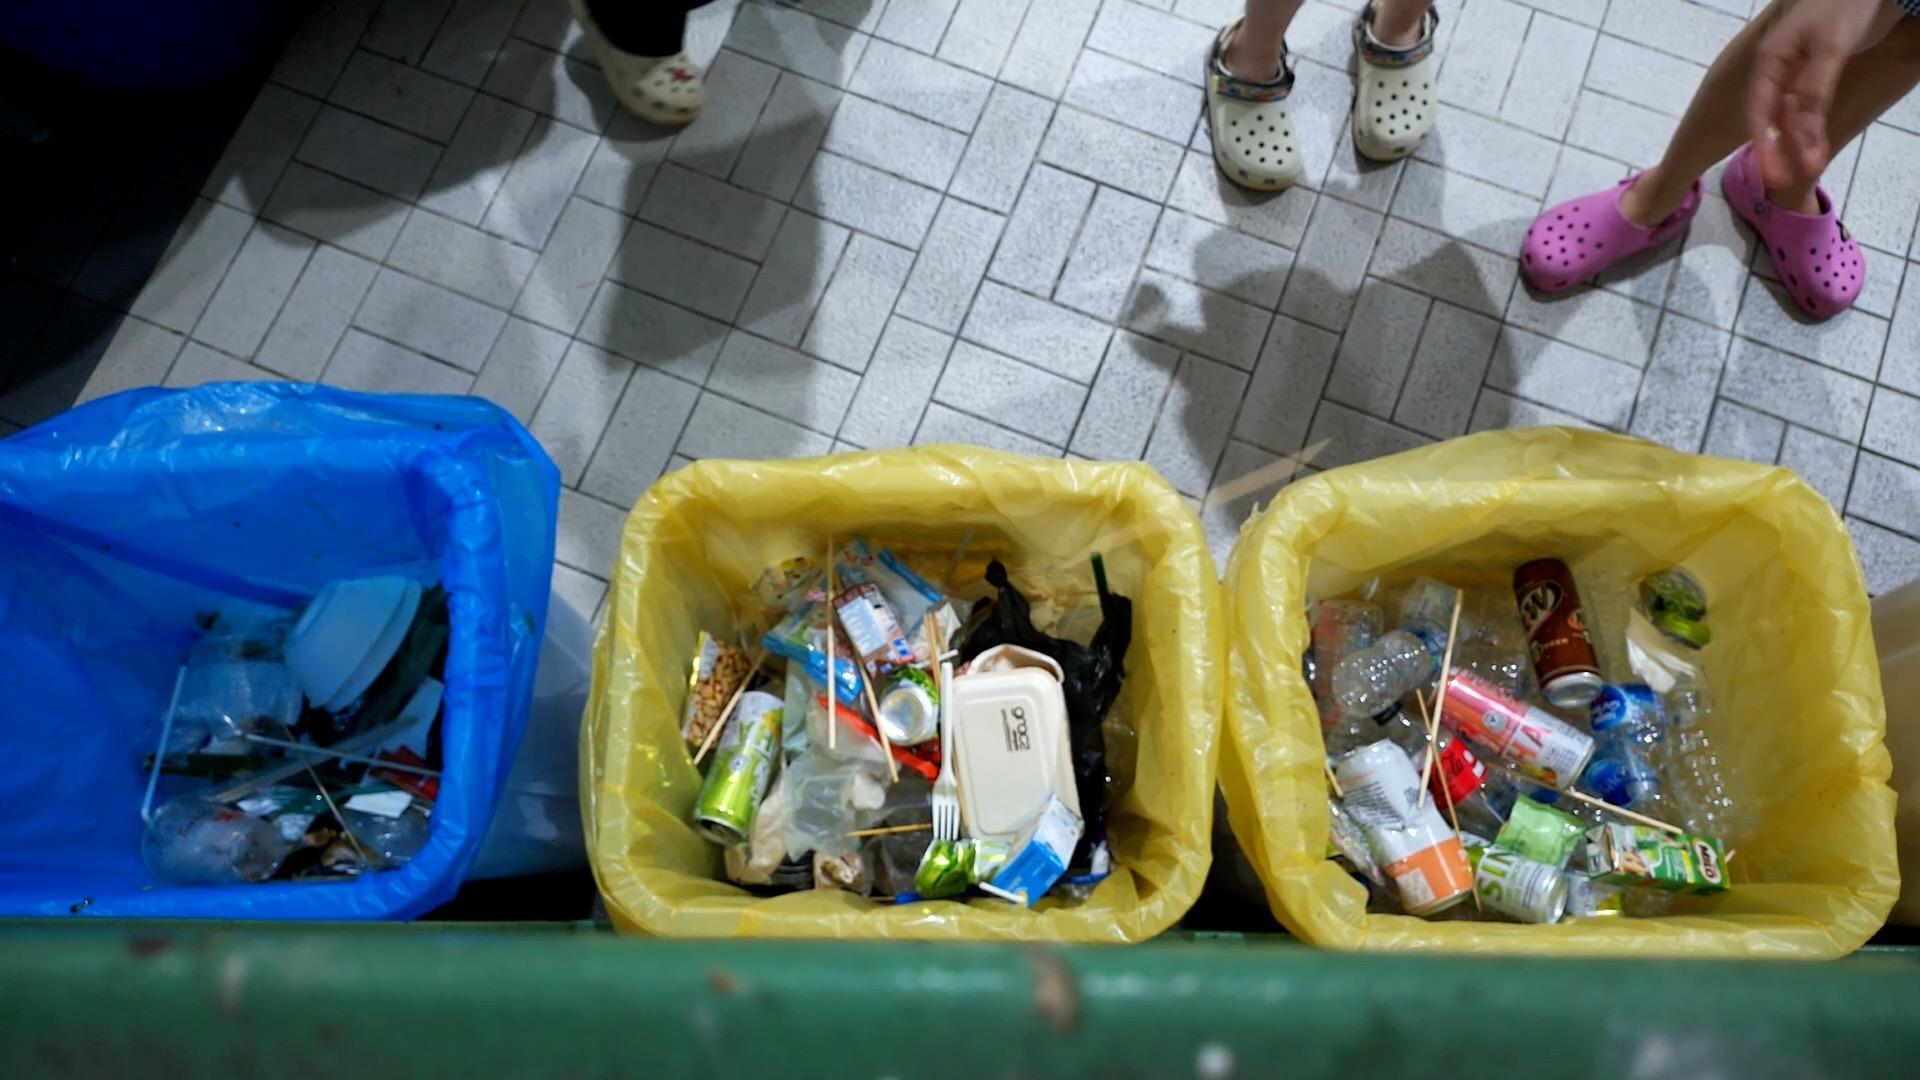can: (1333, 740, 1480, 919), (1427, 665, 1602, 799), (686, 684, 789, 845), (1511, 554, 1606, 711), (1448, 823, 1576, 931), (897, 818, 1011, 886), (1636, 564, 1720, 651), (876, 665, 951, 750)
food container: (952, 645, 1084, 852), (284, 574, 426, 713)
milk carton: (1582, 818, 1735, 898), (993, 794, 1089, 909), (833, 572, 911, 687)
plastic bag: (742, 708, 894, 865)
plastic bottle: (1651, 647, 1774, 860), (1325, 612, 1469, 720), (1585, 663, 1679, 818)
plastic cutlery: (931, 658, 967, 843)
snack packaging: (757, 526, 948, 703), (678, 622, 782, 750)
sticks: (1060, 434, 1335, 572), (222, 716, 422, 812), (1404, 687, 1484, 916), (928, 607, 998, 823), (276, 716, 376, 861), (1514, 760, 1688, 841), (232, 727, 451, 783), (688, 640, 775, 771), (690, 641, 771, 771), (1416, 592, 1466, 804), (852, 636, 907, 791), (824, 518, 844, 754), (845, 818, 919, 841)
straw: (137, 663, 208, 824)
